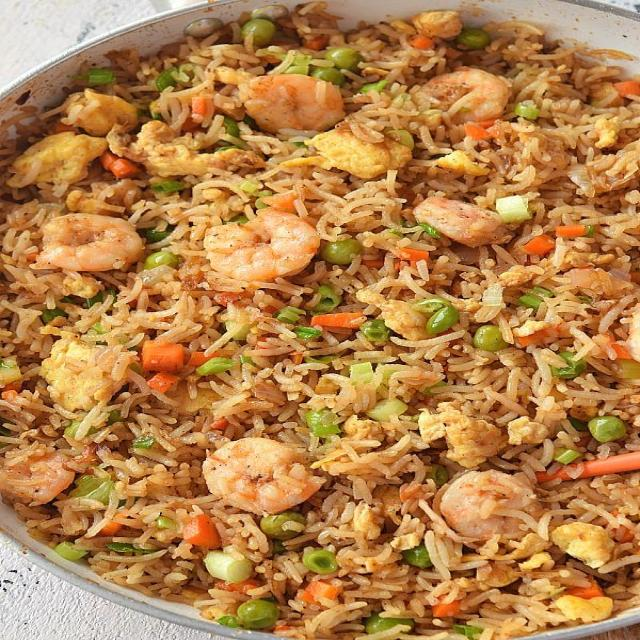Nasi Goreng: (2, 2, 638, 637)
